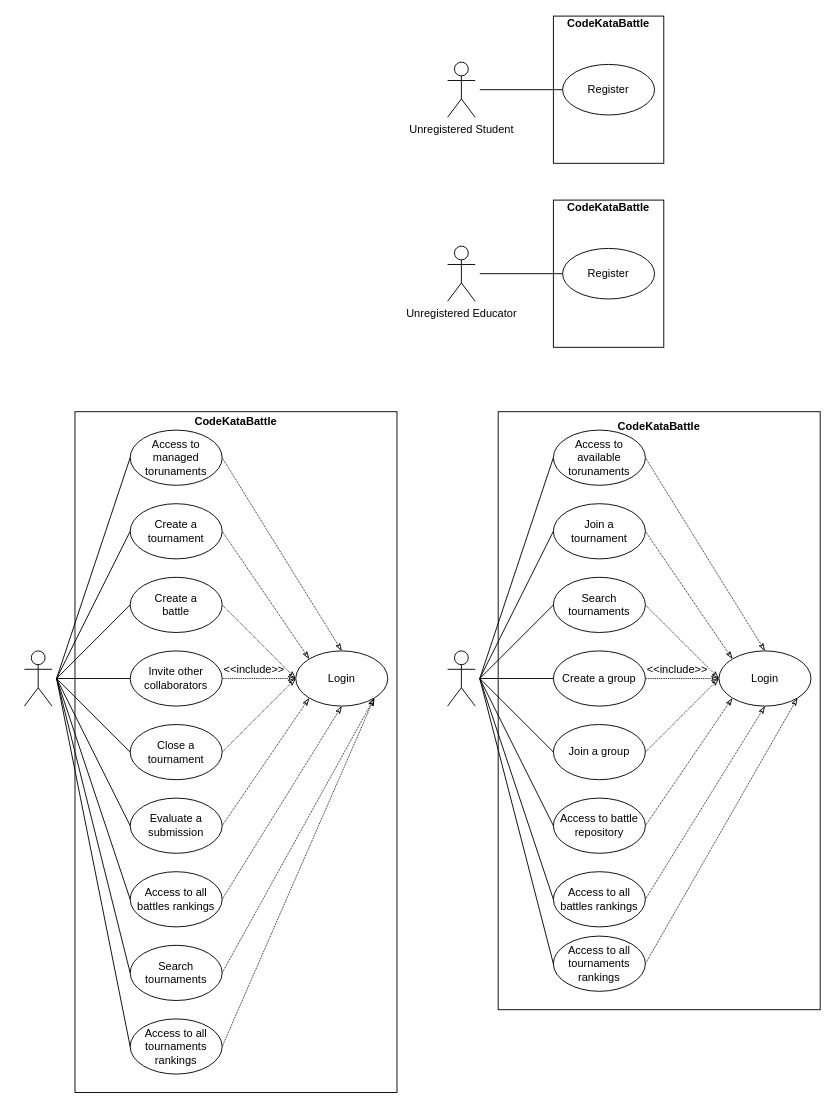
This 836x1109 diagram has some shape labels left out. Here are the shapes that lost their labels. From the top down, the box of each, then its label:
(23, 650, 52, 706): Educator
(447, 650, 475, 706): Student
